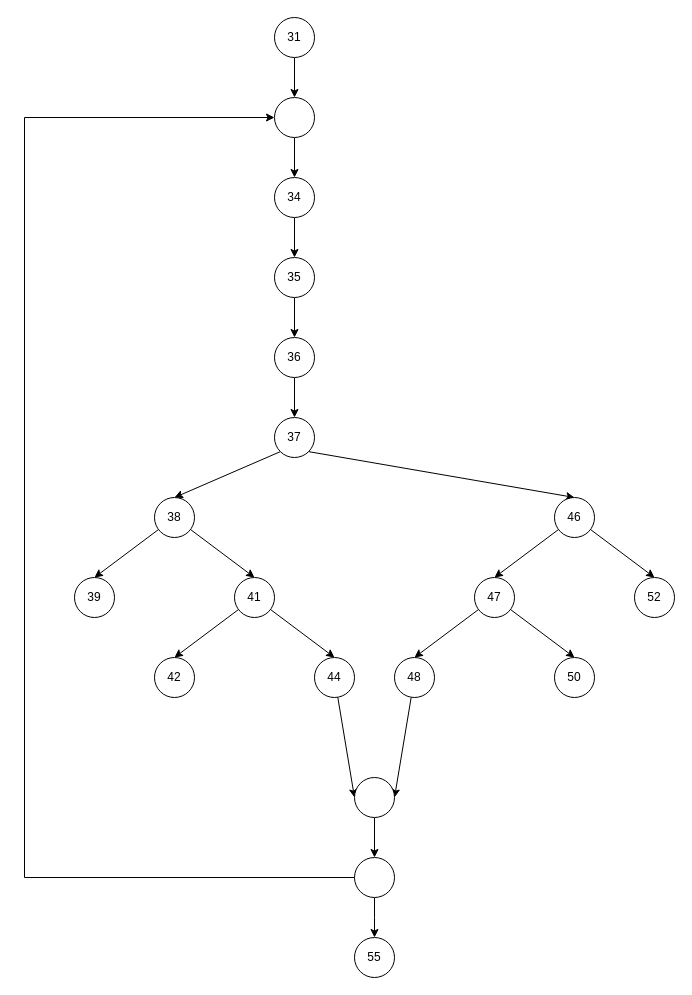
The diagram is 692 pixels wide and 995 high, and some of its shapes have lost their labels. Each missing label, with the centre of its shape:
"33.a" belongs at pixel 294 117.
"33.b" belongs at pixel 374 797.
"33.c" belongs at pixel 374 877.
